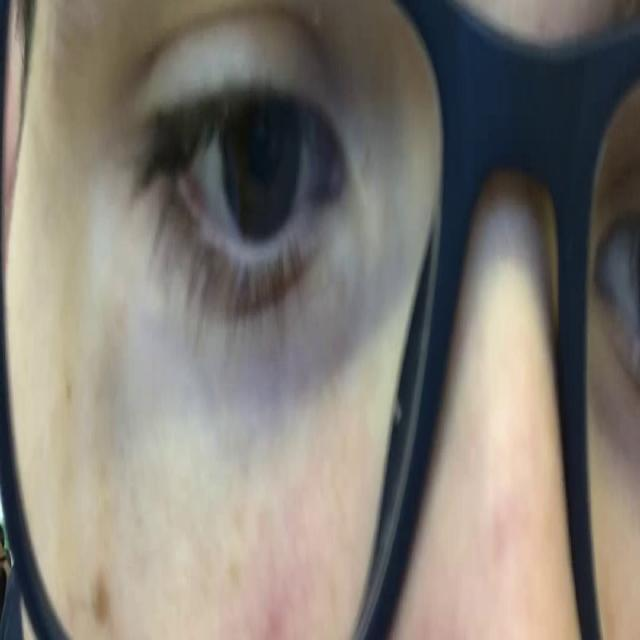eye: (128, 39, 362, 325)
gaze: (215, 63, 308, 268)
